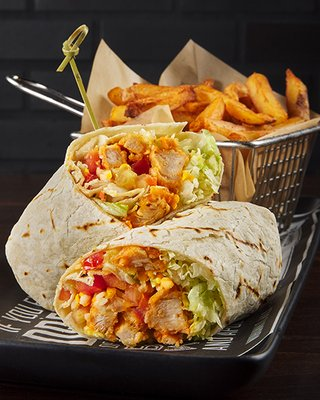sandwich: (6, 74, 85, 119)
